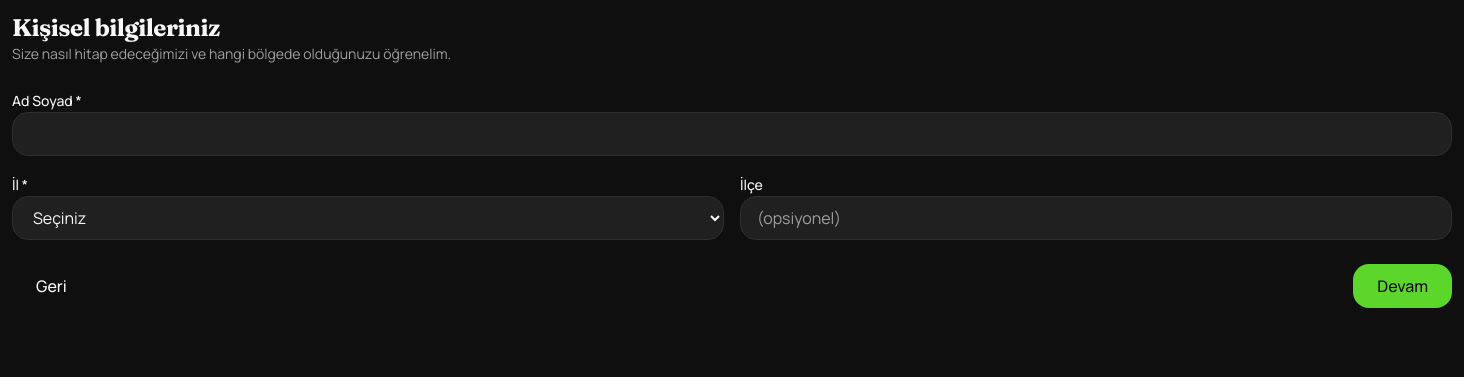
Scenario: StepPersonal › shows error if name empty when clicking devam
The width and height of the screenshot is (1464, 377).
Click the button "Devam" at (1403,286), box [1353,264,1452,308]
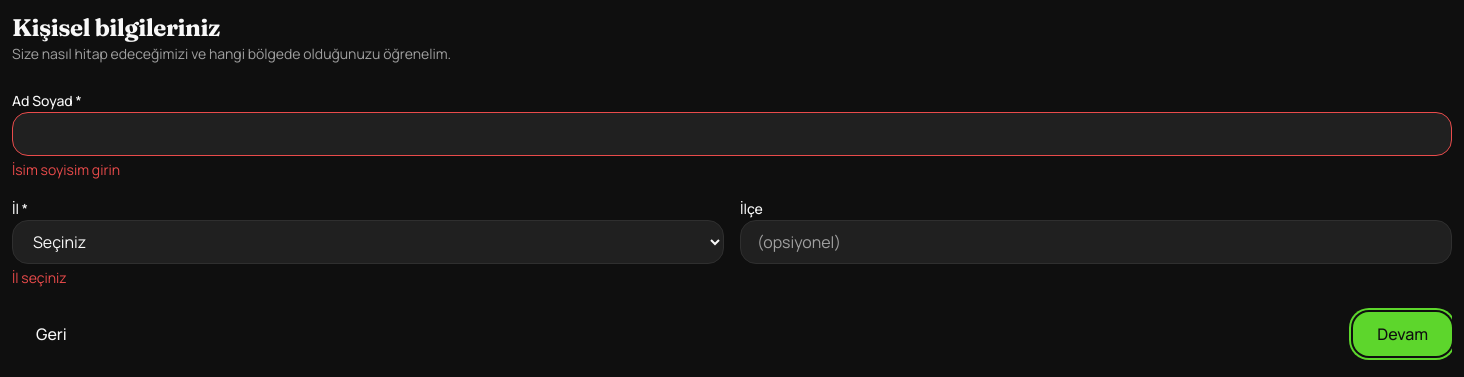
Check: the text "İsim soyisim girin" is shown, box [12,160,120,179]
